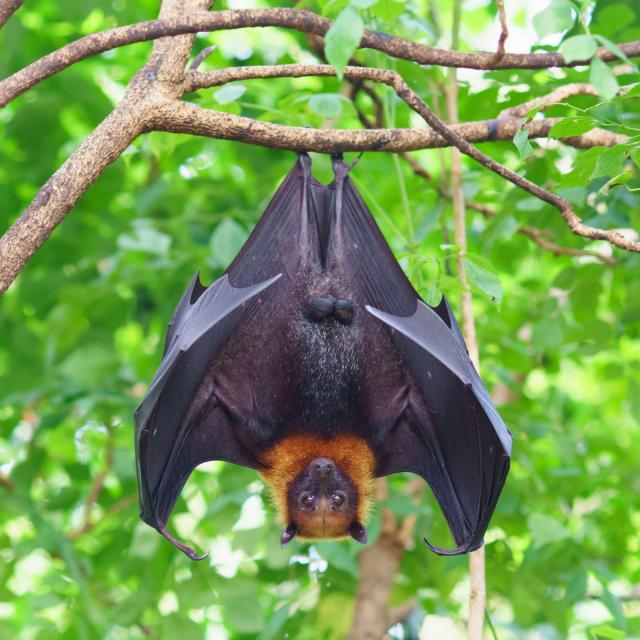Bat: (128, 144, 520, 570)
